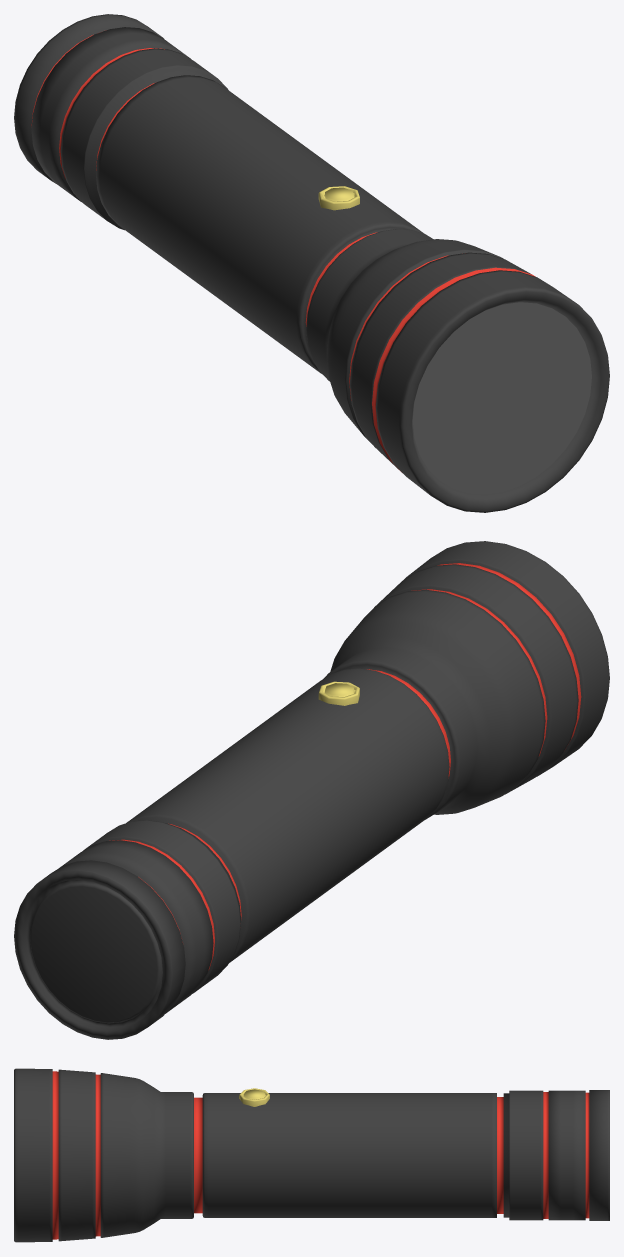
Rendered from torch.glb.
3 views of the same model, one above another, from view 1: azimuth 30°, elevation 25°; view 2: azimuth 150°, elevation 25°; view 3: azimuth 270°, elevation 25° (orthographic). The views are drawn at different scales.
Visible parts, largest first — view 1: Cylinder.001; view 2: Cylinder.001; view 3: Cylinder.001.
Boxes of the visible parts, x1,y1,x2,y2 form: Cylinder.001: [14, 14, 609, 512]; Cylinder.001: [14, 541, 609, 1039]; Cylinder.001: [14, 1068, 609, 1242].
Size of the model in its own units: 2.66 by 2.66 by 9.1.
